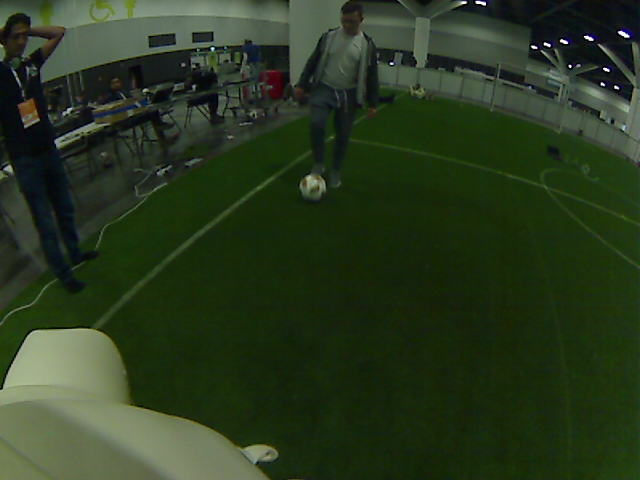ball: (291, 165, 331, 205)
goalpost: (552, 94, 565, 136), (487, 72, 500, 113)
